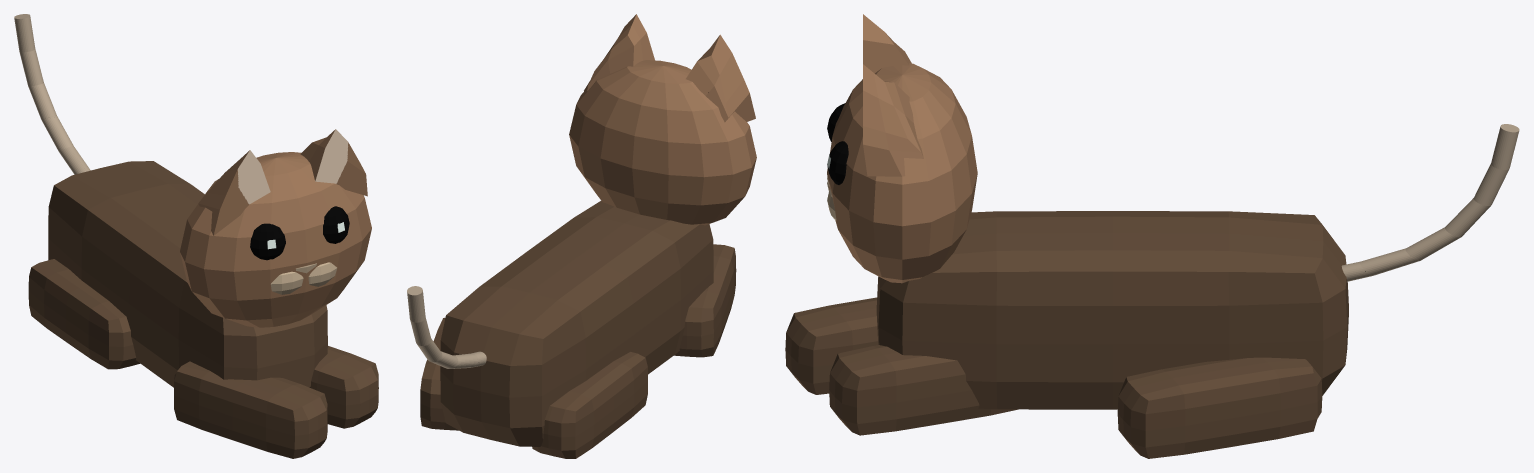
The model's file is Cat.fbx.
3 views of the same model, side by side, from view 1: azimuth 30°, elevation 25°; view 2: azimuth 150°, elevation 25°; view 3: azimuth 270°, elevation 25° (orthographic). The views are drawn at different scales.
Visible parts, largest first — view 1: Cube, Sphere, Cylinder.001; view 2: Cube, Cylinder.001; view 3: Cube, Cylinder.001, Sphere.
Boxes of the visible parts, x1,y1,x2,y2 form: Cube: (28, 129, 378, 458); Sphere: (250, 206, 349, 294); Cylinder.001: (14, 14, 90, 174); Cube: (420, 14, 756, 458); Cylinder.001: (407, 286, 486, 368); Cube: (785, 14, 1348, 458); Cylinder.001: (1341, 124, 1519, 281); Sphere: (827, 103, 848, 220).
Size of the model in its own units: 236 by 311 by 584.
